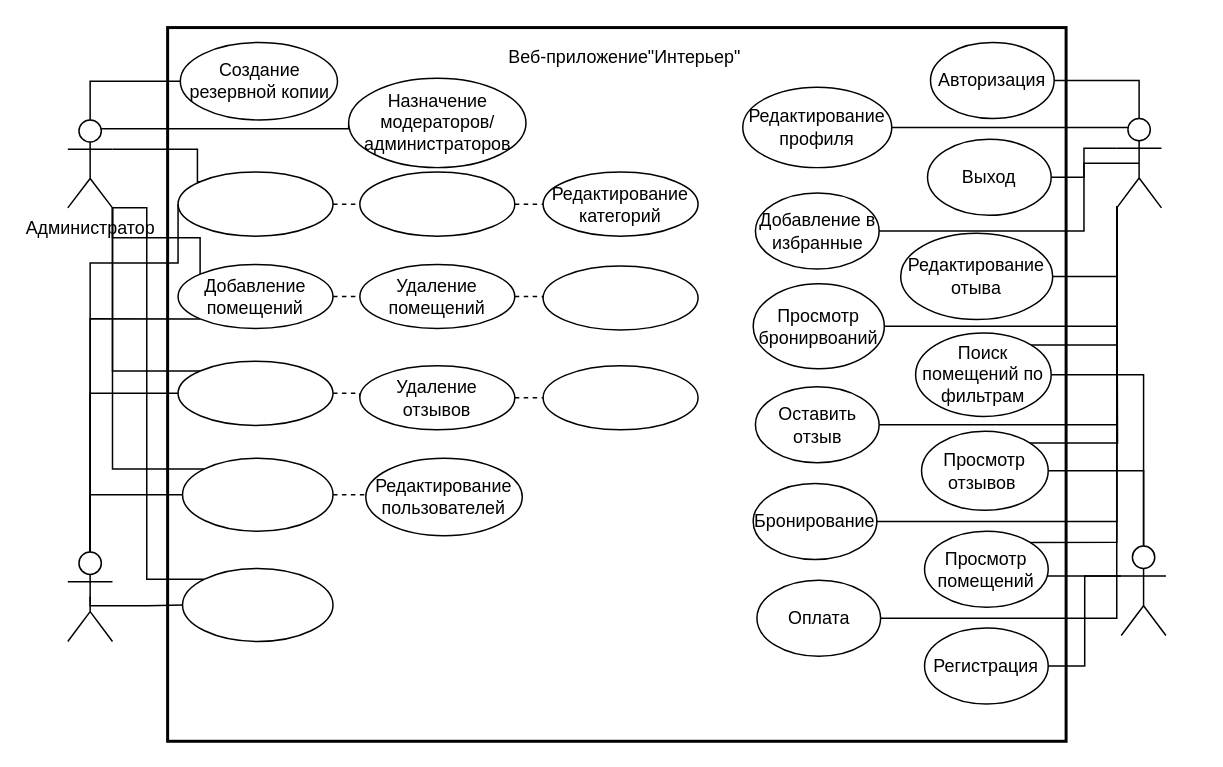
Some shapes in this 1223 by 767 pixel diagram are drawn without their labels. Here are the shapes that lost their labels. From the top down, the centre of each, then its label:
At (x=1138, y=162): "Пользователь".
At (x=255, y=203): "Добавление категорий".
At (x=436, y=203): "Удаление категорий".
At (x=620, y=297): "Редактирование помещений".
At (x=255, y=392): "Модерация отзывов".
At (x=620, y=397): "Редактирование Отзывово".
At (x=257, y=494): "Блокирование пользователей".
At (x=89, y=596): "Модератор".
At (x=257, y=604): "Просмотр отчетов".
At (x=1143, y=590): "Гость".
